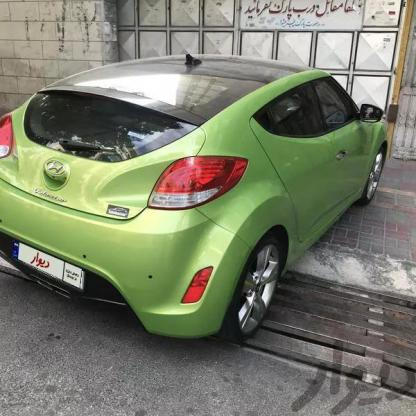Car: (0, 51, 390, 352)
